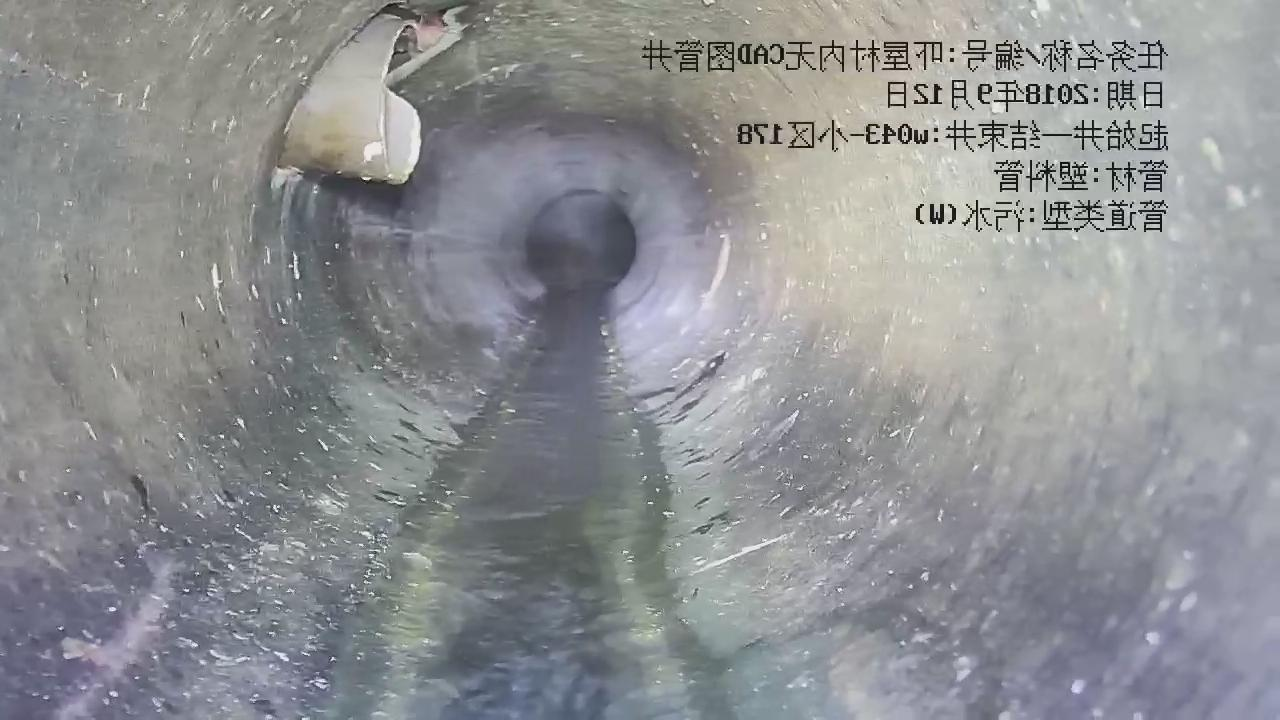ZGAJ: (274, 0, 466, 184)
